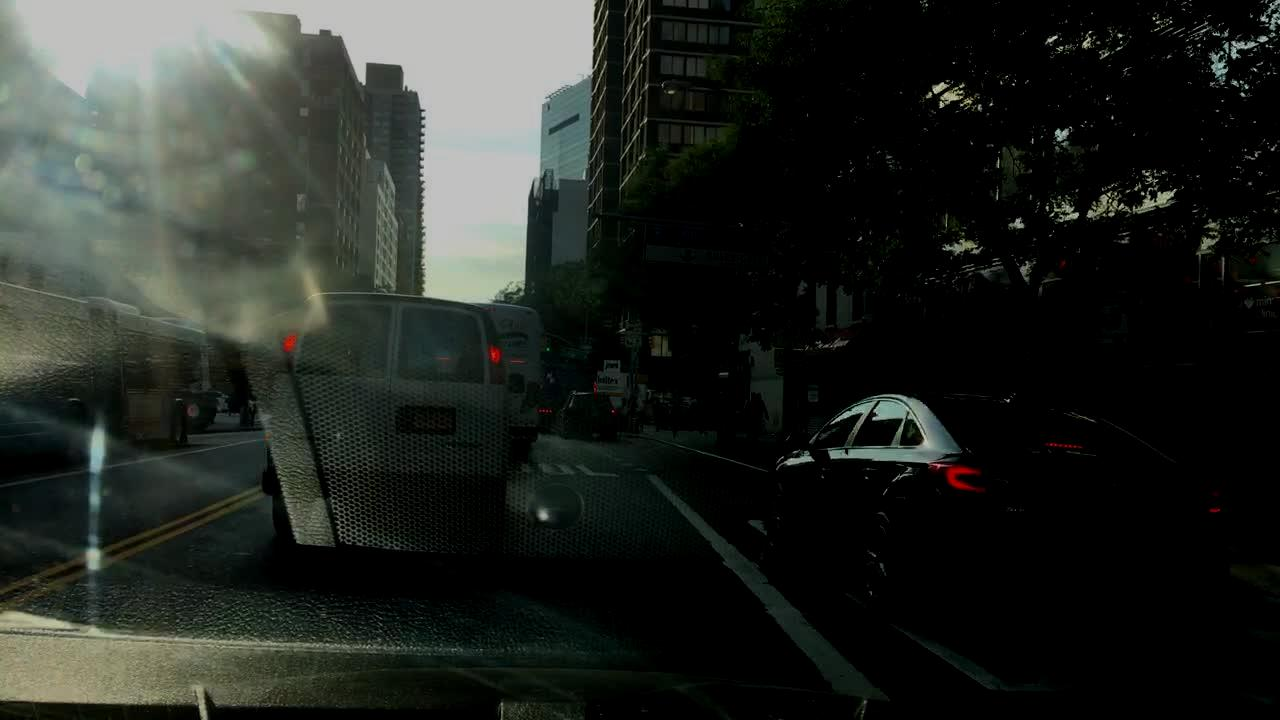Hyundai: (1088, 465, 1130, 502)
